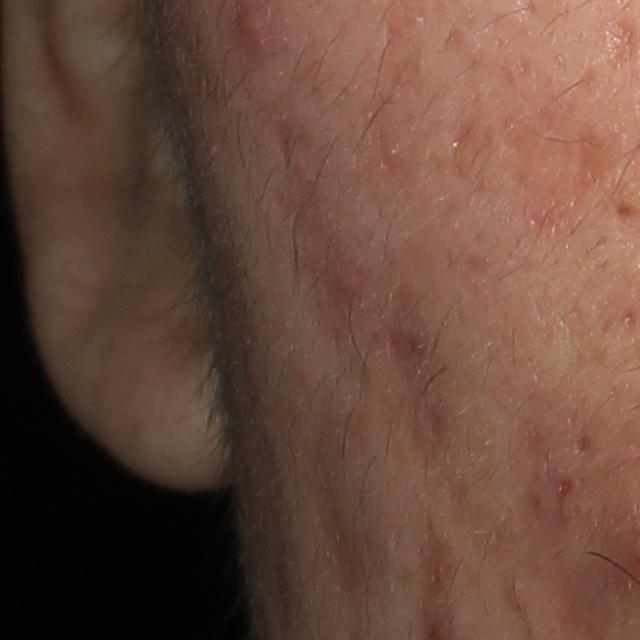atrophic_scar: (272, 117, 362, 354), (387, 283, 462, 476), (306, 442, 366, 600), (560, 126, 628, 202), (615, 303, 637, 335)
